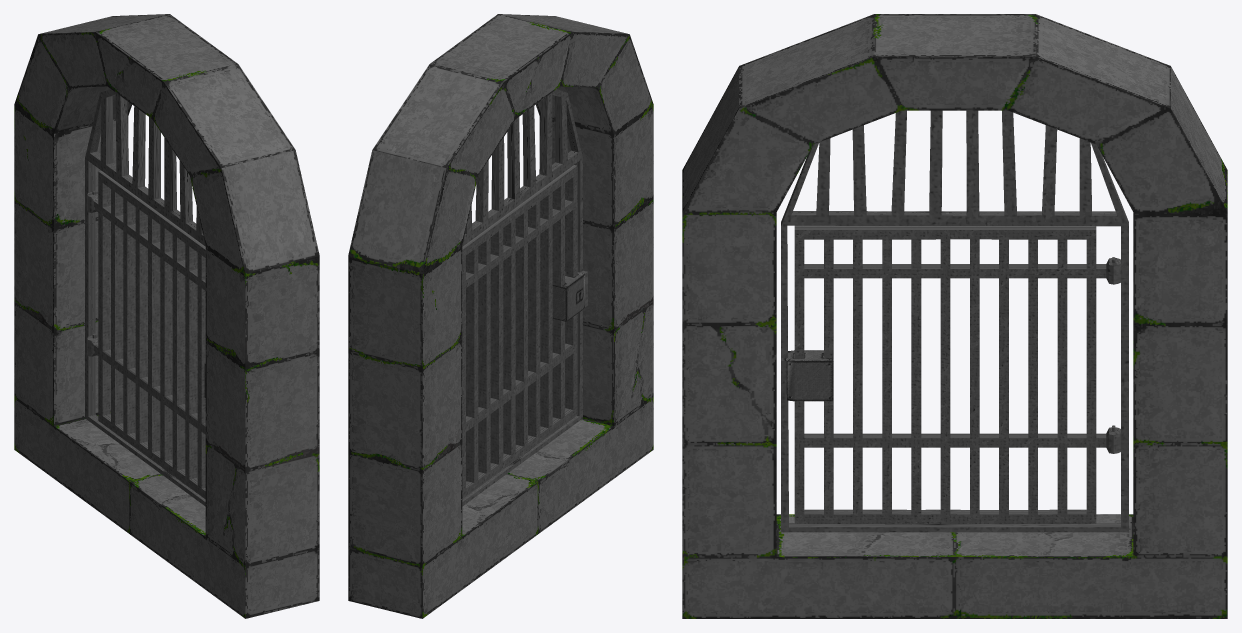
File: porte_fermee.fbx
3 views of the same model, side by side, from view 1: azimuth 30°, elevation 25°; view 2: azimuth 150°, elevation 25°; view 3: azimuth 270°, elevation 25° (orthographic). The views are drawn at different scales.
Parts seen in each view (by area): view 1: Cube.003, Cube.004, Cube.002; view 2: Cube.003, Cube.004, Cube.002; view 3: Cube.003, Cube.004, Cube.002.
Boxes of the visible parts, x1,y1,x2,y2 form: Cube.003: (14,14,319,618); Cube.004: (94,171,205,498); Cube.002: (85,89,205,506); Cube.003: (348,14,653,618); Cube.004: (462,165,584,498); Cube.002: (462,89,587,506); Cube.003: (682,14,1227,618); Cube.004: (786,225,1106,523); Cube.002: (781,110,1128,532).
Size of the model in its own units: 444 by 2720 by 2390.
Materials: 2 (2 with a texture image).
